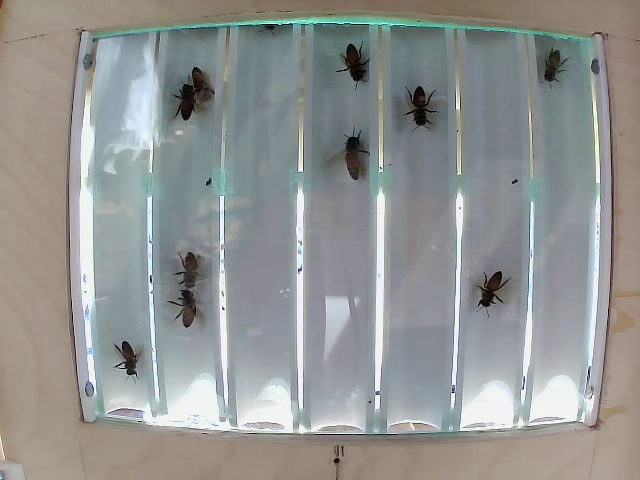bee: (166, 293, 220, 333), (333, 125, 376, 175), (176, 244, 215, 289), (478, 264, 512, 314), (167, 86, 211, 124), (401, 88, 436, 134), (335, 54, 377, 89), (189, 62, 224, 99), (545, 52, 567, 92)
